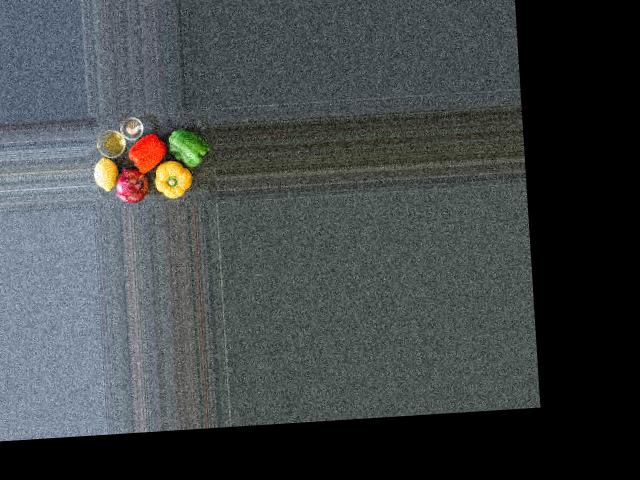bell_pepper: (127, 131, 167, 175)
